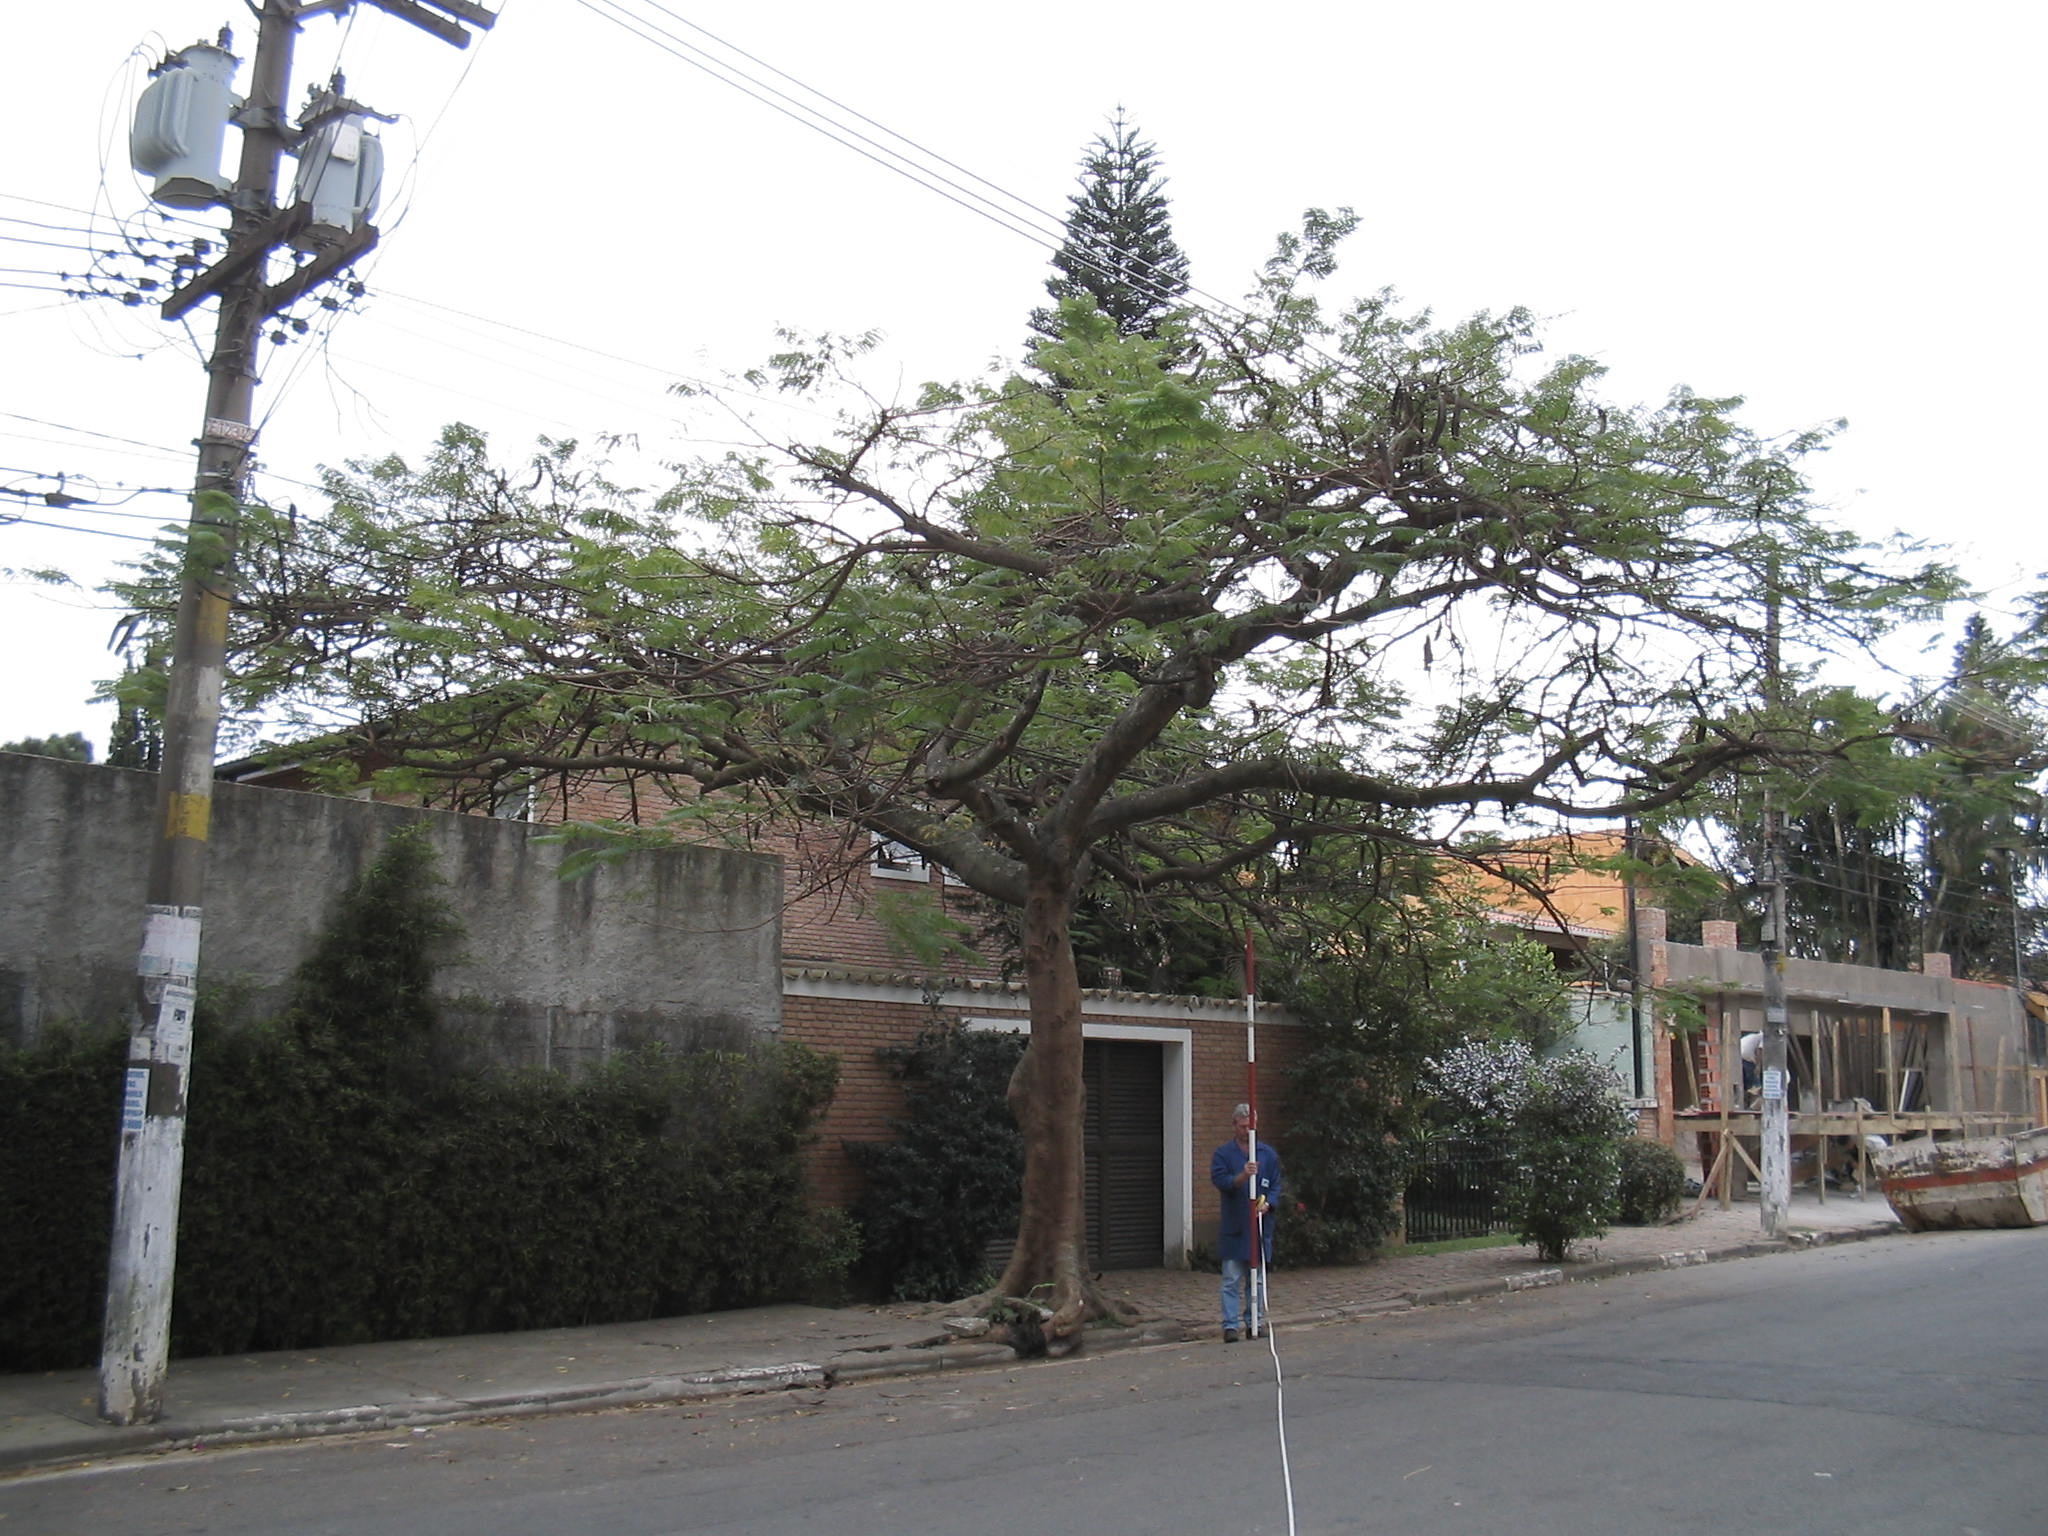crown: (139, 305, 1946, 952)
stem: (969, 900, 1145, 1329)
stick: (1222, 926, 1284, 1341)
tree: (131, 303, 1958, 1333)
